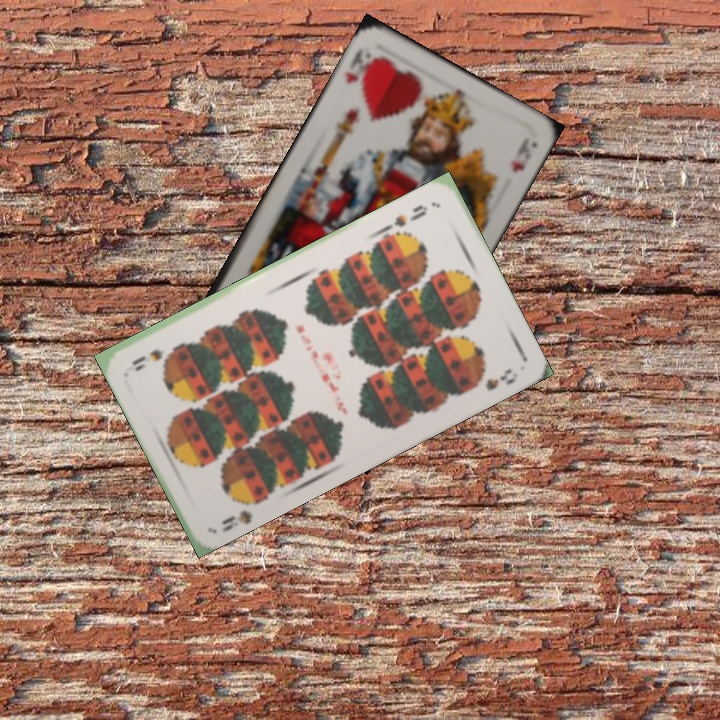HK: (340, 44, 380, 88)
S9: (217, 491, 264, 535), (390, 200, 430, 230)
